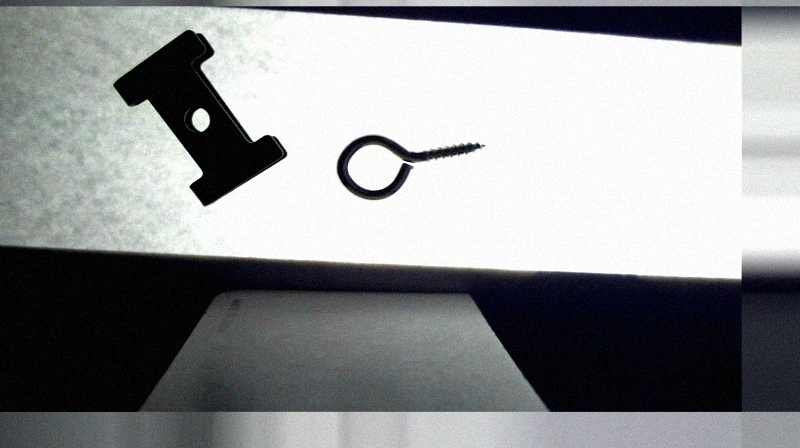O001: (334, 133, 488, 202)
O002: (109, 28, 288, 207)
